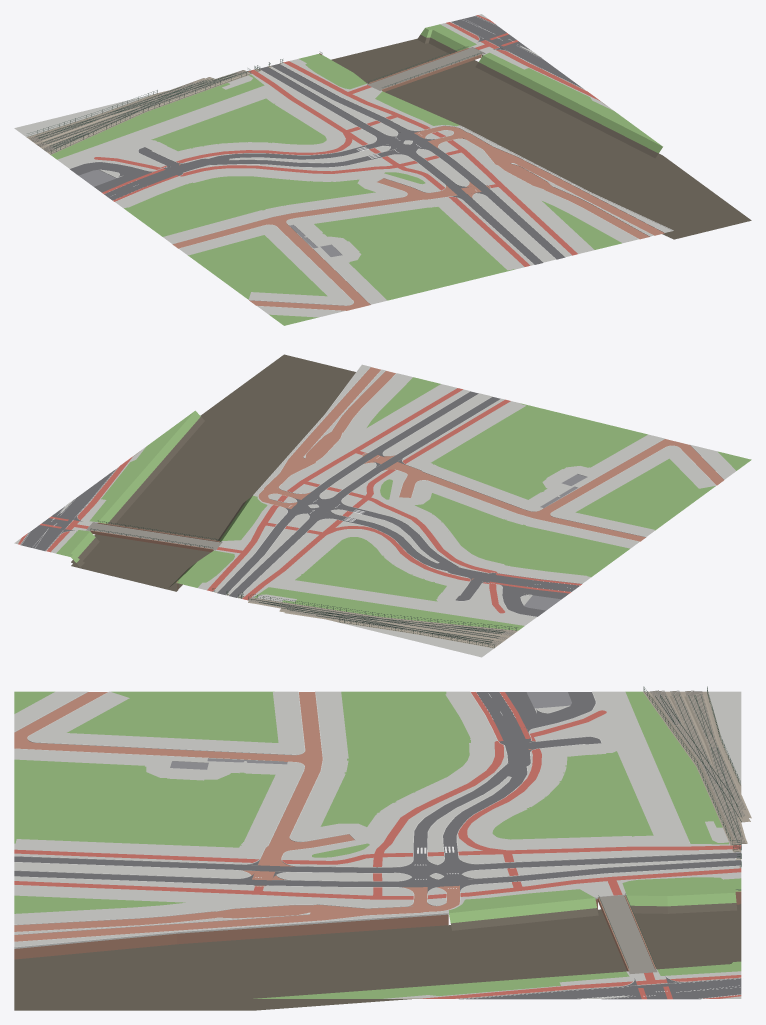
The model's file is ground_8_6.glb.
3 renders of one model, top to bottom at view 1: azimuth 30°, elevation 25°; view 2: azimuth 150°, elevation 25°; view 3: azimuth 270°, elevation 25°, orthographic. The views are drawn at different scales.
Parts seen in each view (by area): view 1: ground_8_6; view 2: ground_8_6; view 3: ground_8_6.
Part boxes in pixels (x1,y1,x2,y2): ground_8_6: (14, 14, 751, 325); ground_8_6: (14, 354, 751, 657); ground_8_6: (14, 686, 751, 1010).
Bounding box in the file's own units: 200 × 5.17 × 203.
